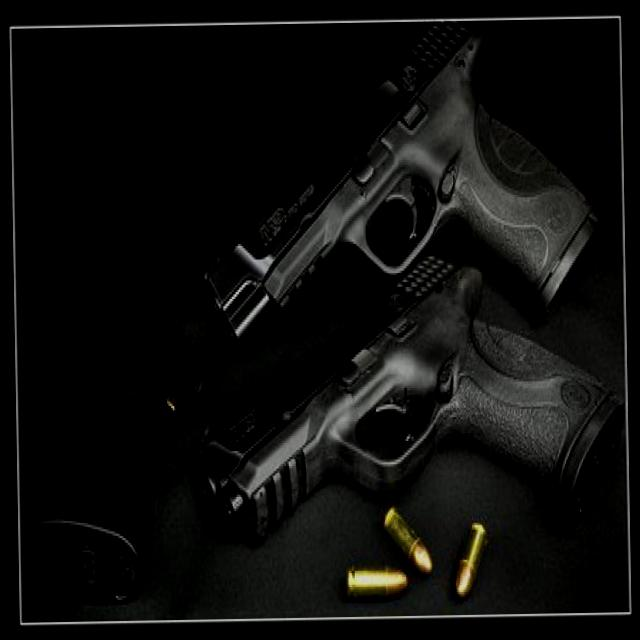handgun: (186, 18, 600, 359), (191, 247, 618, 548)
